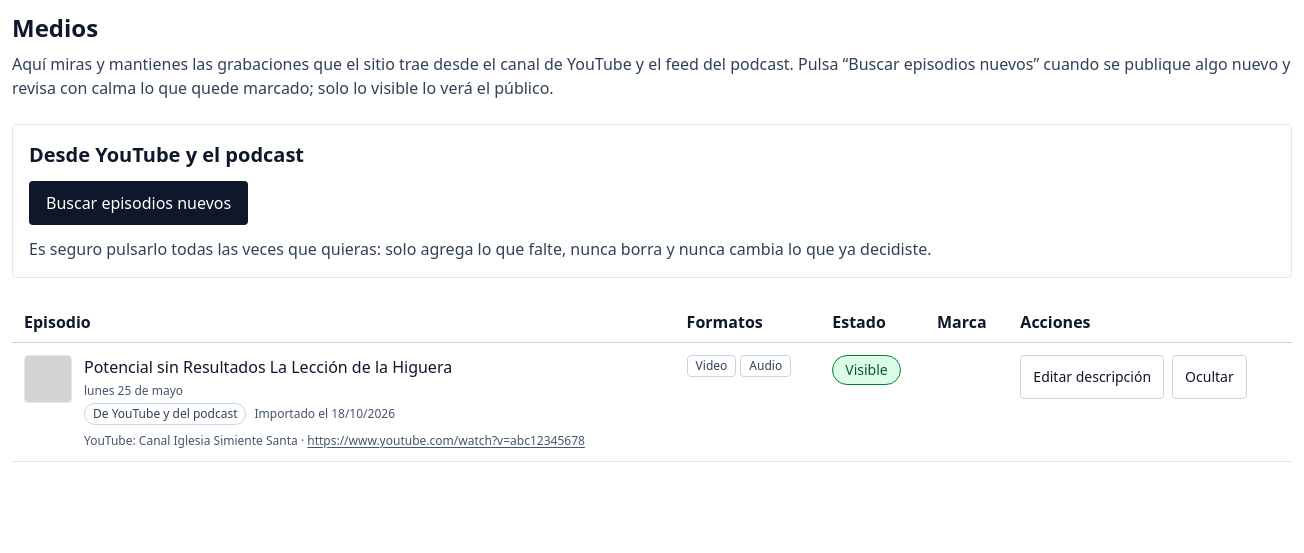
MediosPage · listado del catálogo (US3, ux.md §4.3/§5.b) › «Ocultar» es directo (sin confirmación) y su aviso dice el efecto real
Expected: the table is shown, [12,302,1292,462]
Click the button "Ocultar". click: [1209, 377]
box: [1172,355,1247,399]
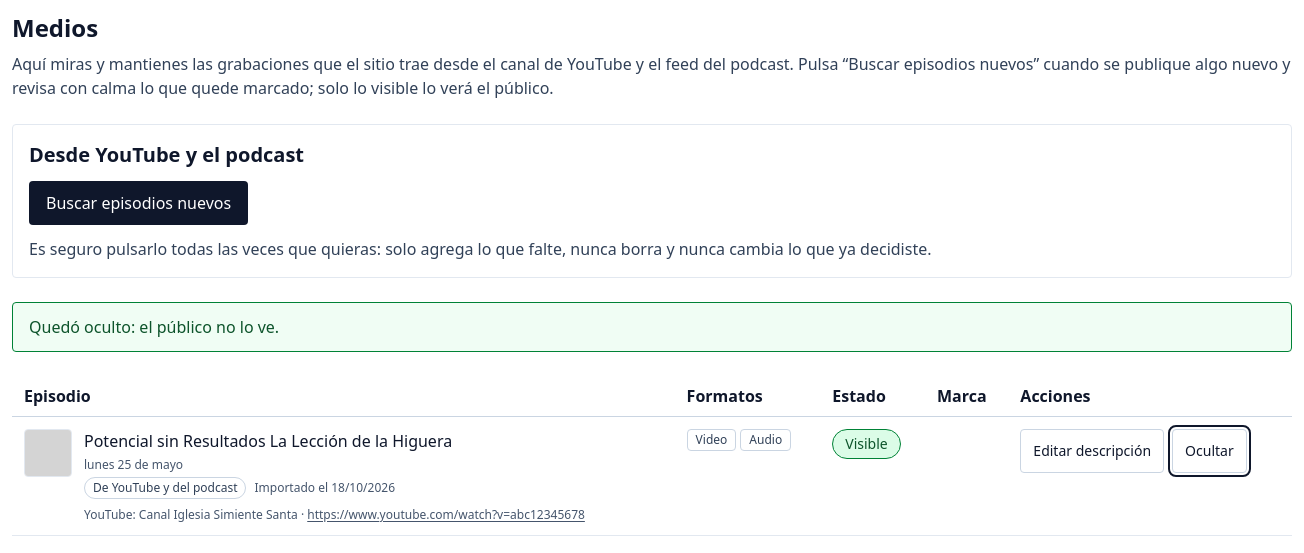
Expected: the text "Quedó oculto: el público no lo ve." is shown, [12,302,1292,352]
